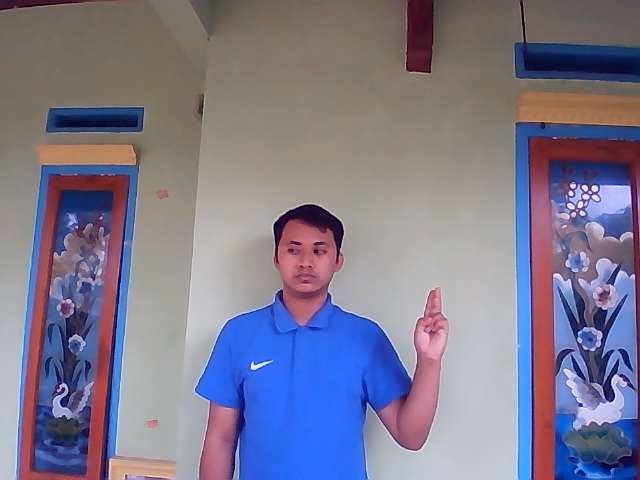U: (411, 286, 449, 357)
